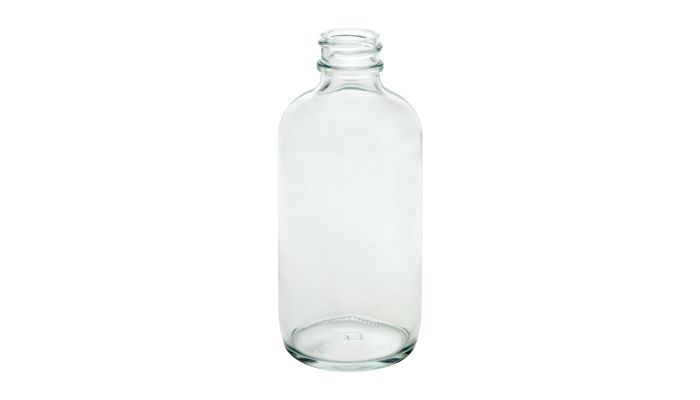glass_bottle: (274, 22, 424, 379)
